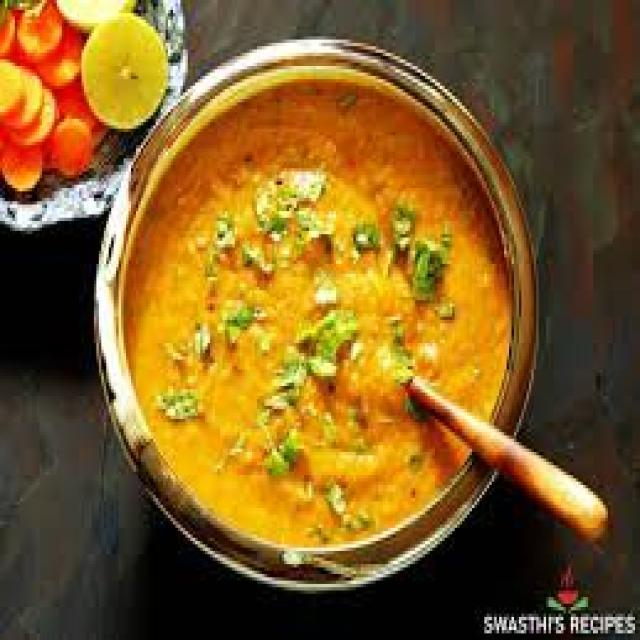dal: (166, 99, 486, 527)
